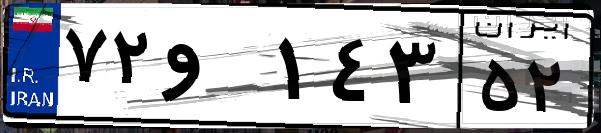1: (270, 28, 330, 110)
2: (525, 38, 570, 115), (110, 28, 158, 98)
3: (385, 28, 445, 110)
4: (330, 28, 385, 110)
5: (475, 38, 525, 113)
7: (57, 26, 110, 100)
و: (158, 20, 270, 120)
